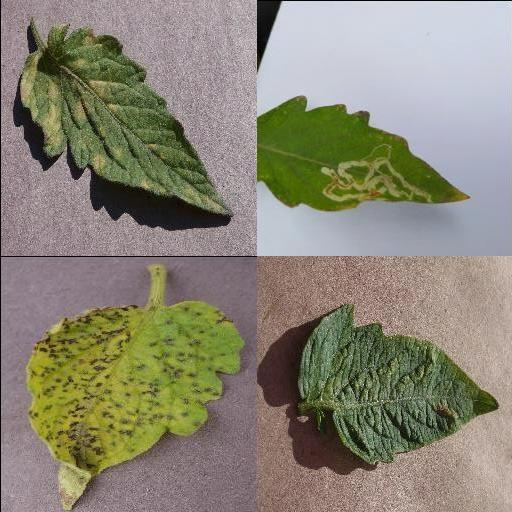Leaf Miner: (256, 95, 472, 213)
Leaf Mold: (18, 26, 234, 216)
Septoria: (26, 299, 243, 507)
Spider Mites: (297, 306, 499, 466)
